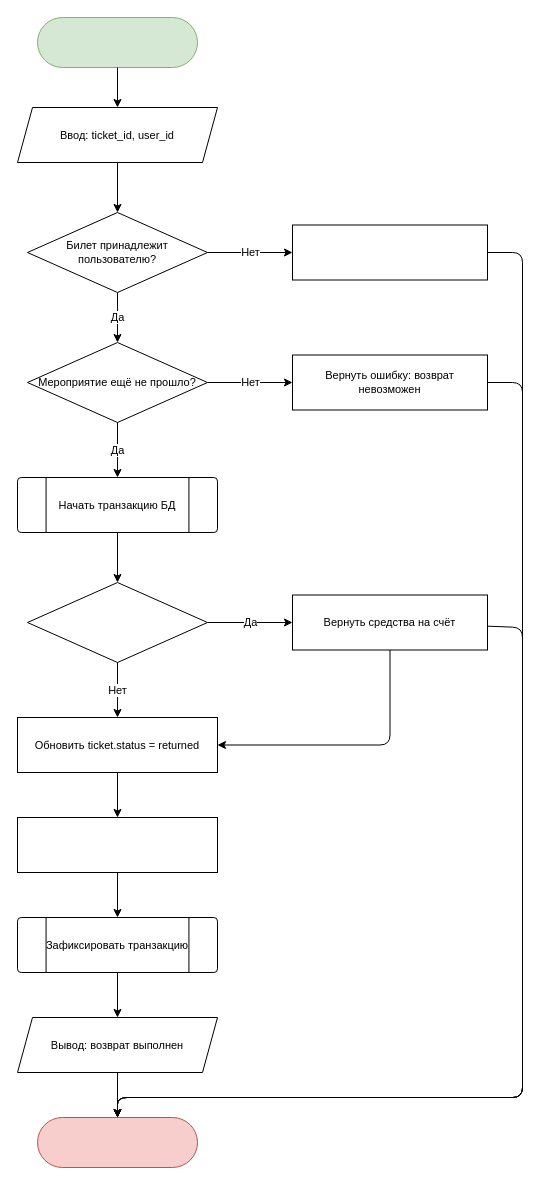
Image size: 548x1185. Some labels were removed from this diagram. The shapes that lost their labels are listed below. From the top down, each one's box as (x1, y1, x2, y2) in pixels, then its label:
(36, 16, 198, 68): Начало
(292, 224, 488, 280): Вернуть ошибку 403: доступ запрещён
(26, 582, 208, 662): Способ оплаты = online?
(16, 816, 218, 872): events.remaining_tickets + 1
(36, 1116, 198, 1168): Конец
